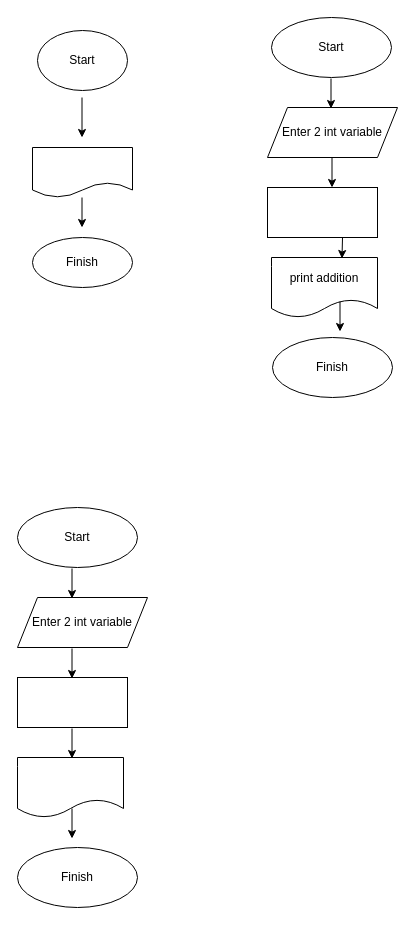
This 415x925 diagram has some shape labels left out. The shapes that lost their labels are listed below. From the top down, each one's centre as x and y in pixels, then its label:
the point at 82,172: Hello World
the point at 322,212: addition =a+b
the point at 72,702: avarage =(a+b)/2
the point at 70,787: print avarage
